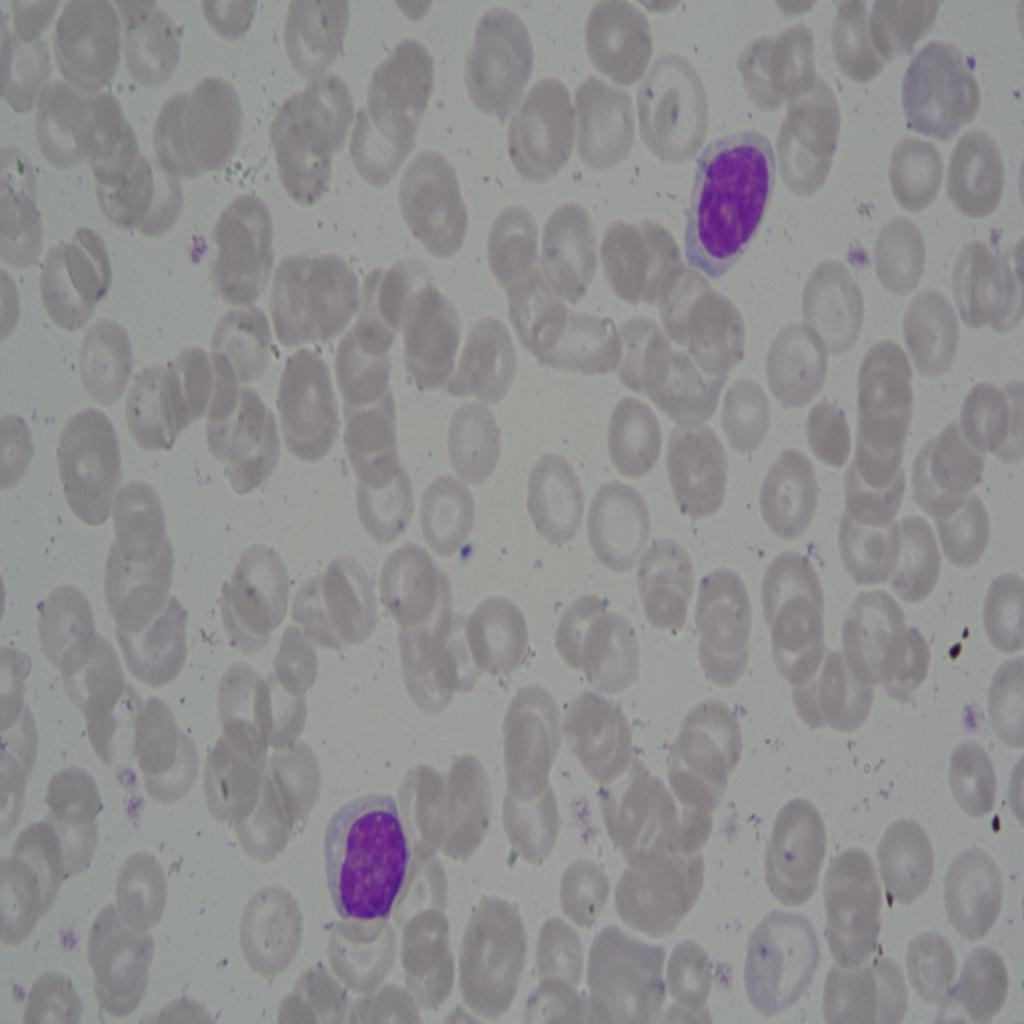Myeoblast: (307, 769, 421, 943), (680, 129, 770, 279)
Platelet: (53, 916, 91, 970), (956, 686, 992, 742), (974, 208, 1010, 264), (949, 38, 985, 86), (844, 240, 873, 284), (183, 226, 200, 266), (10, 975, 33, 1000)
